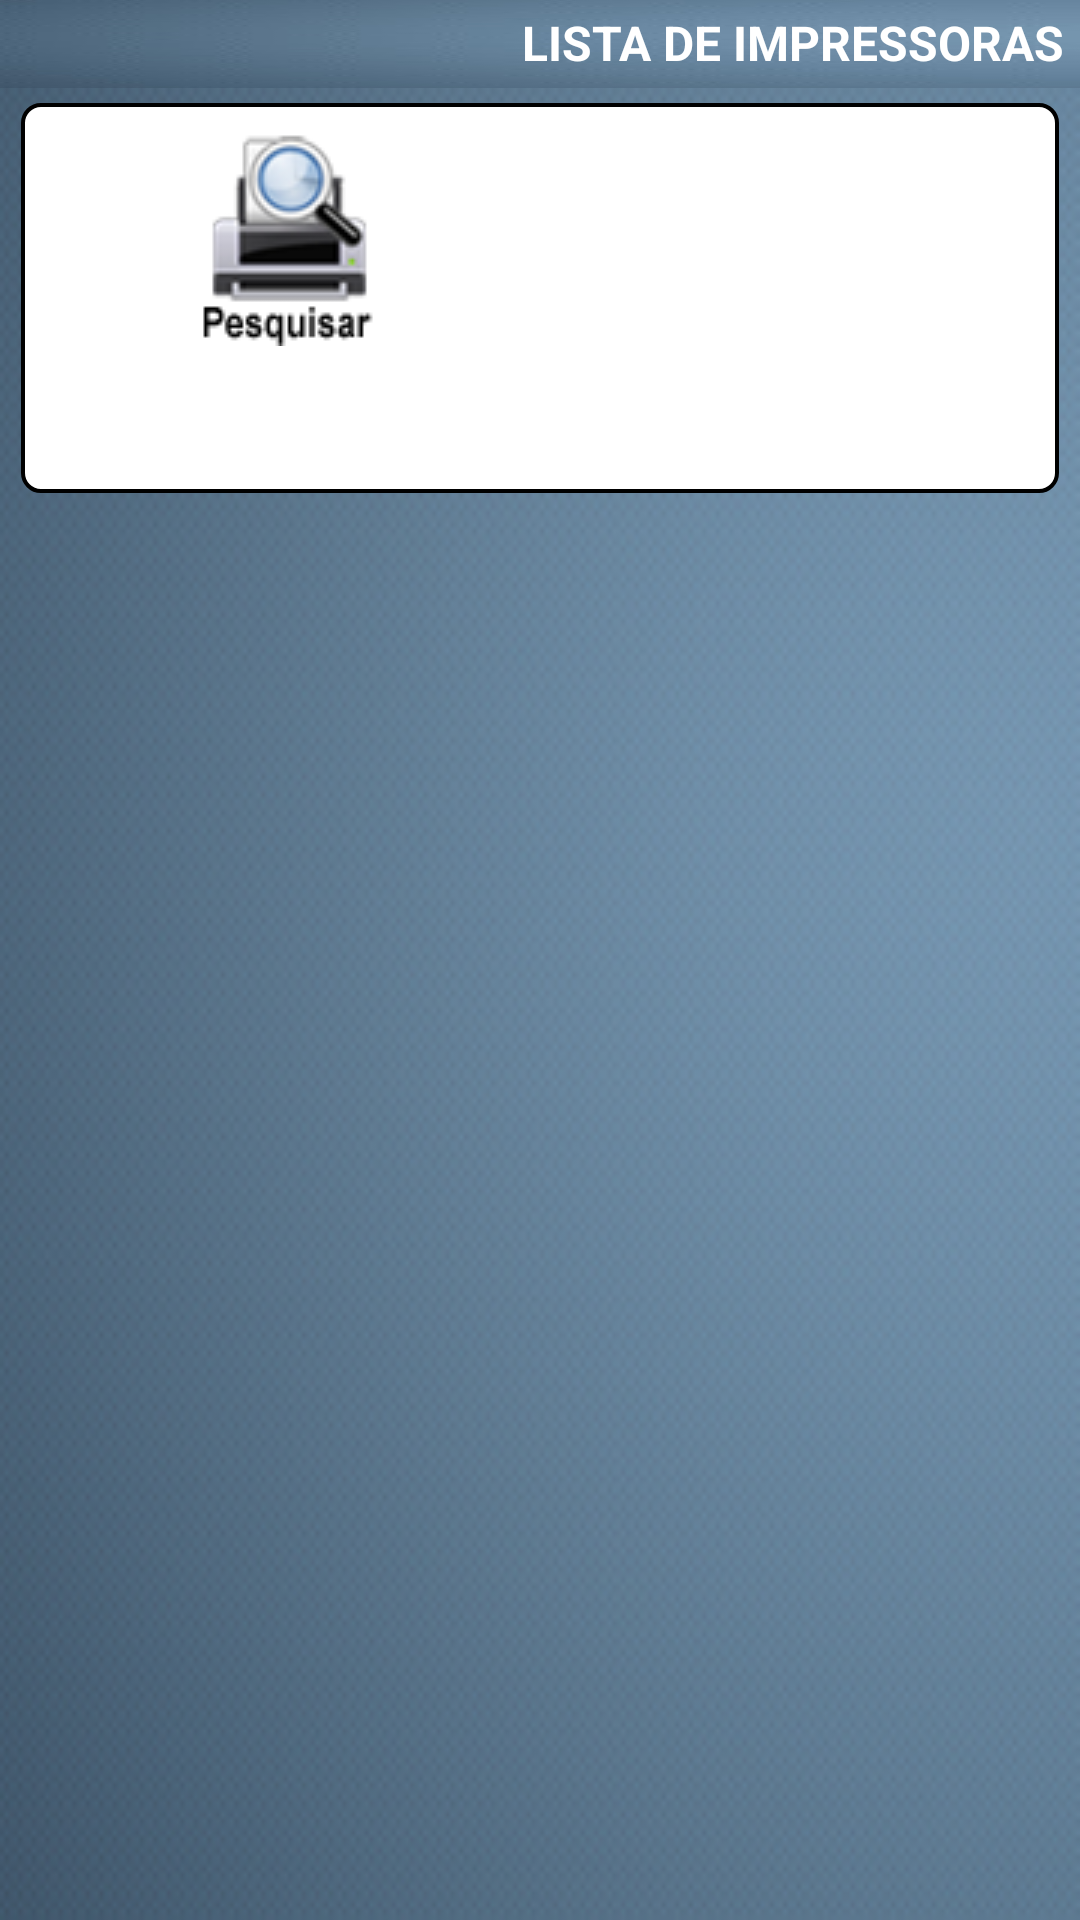

Screen size 1080px×1920px. Icon name, then its center in pixels as (x,y):
selimpressoramaior: (288,240)
